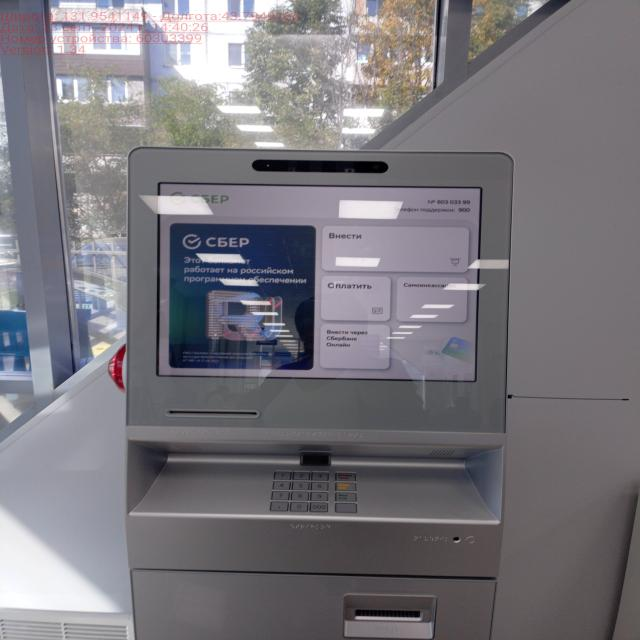bank: (122, 143, 519, 640)
